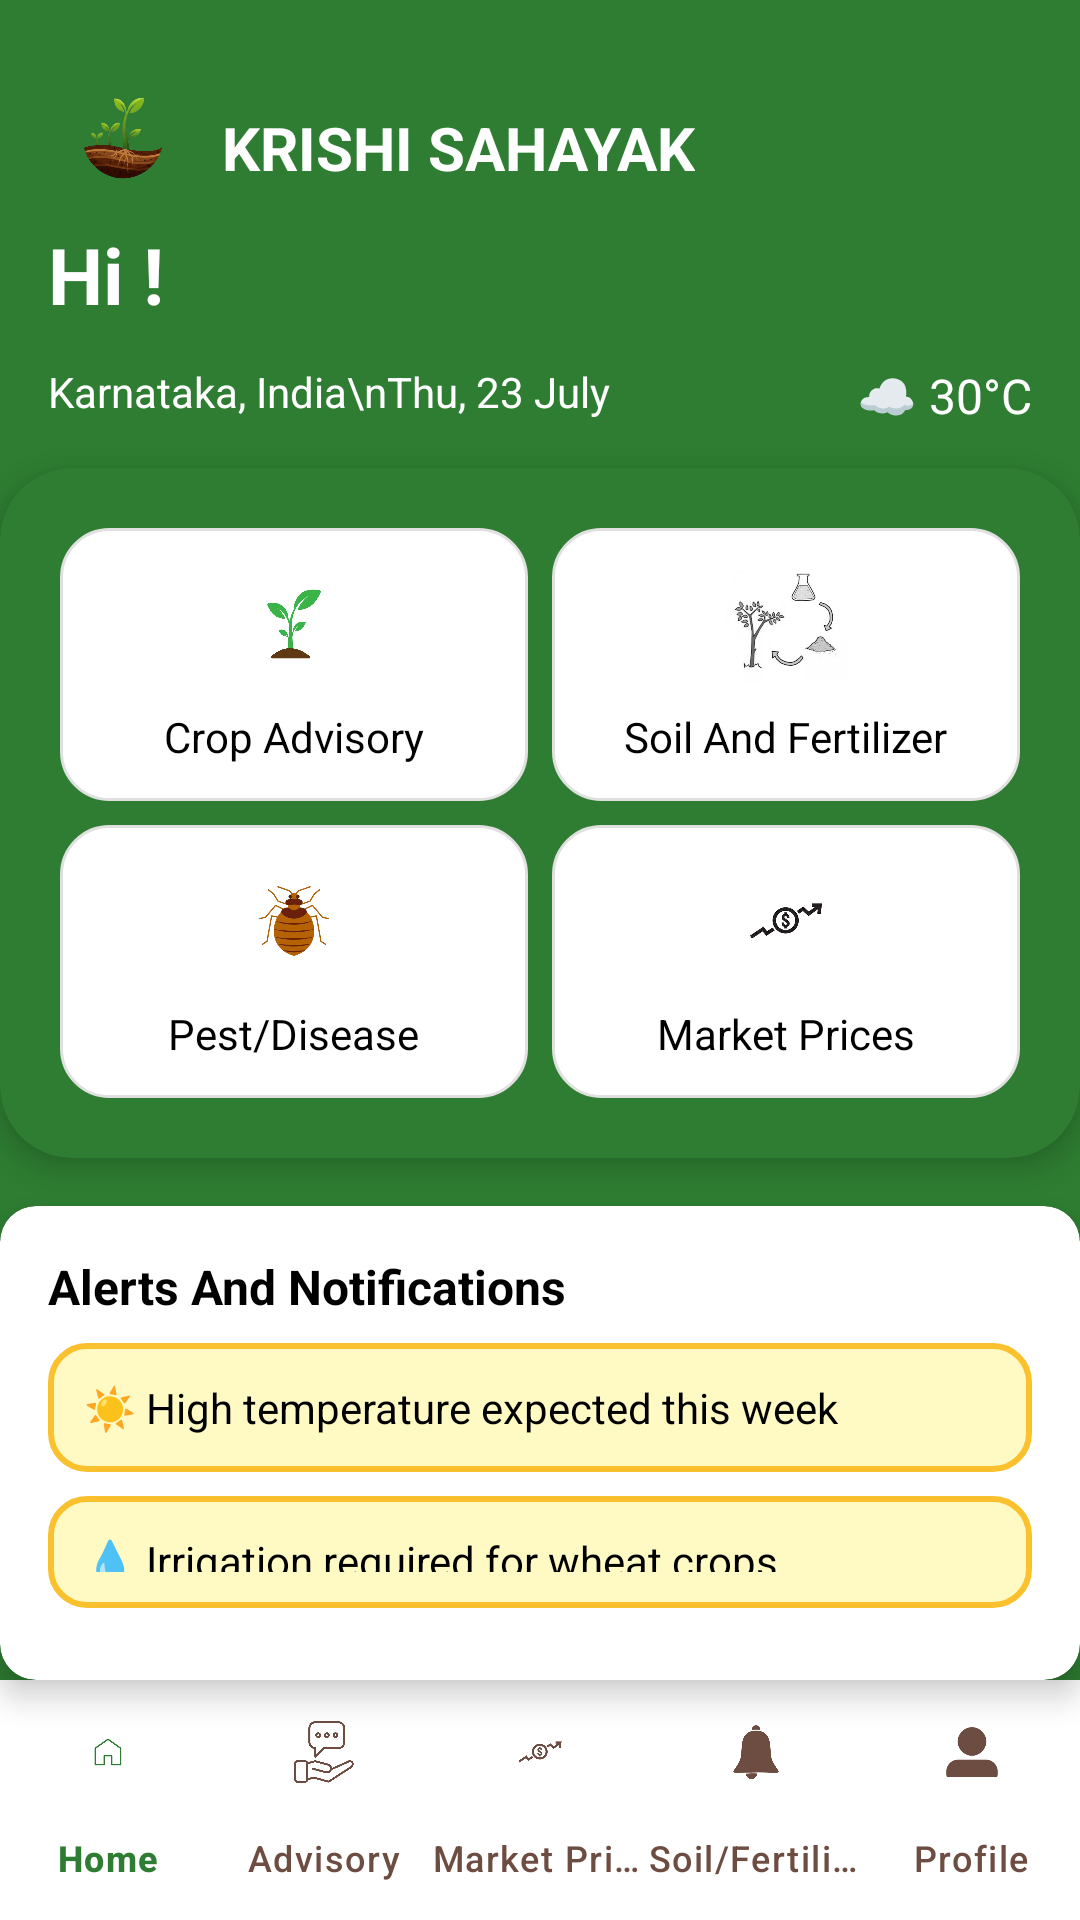

Where to tap for icons on this 1080*1920 app screen, as (x,y):
fertillizer: (785,620)
krishi images: (123,138)
